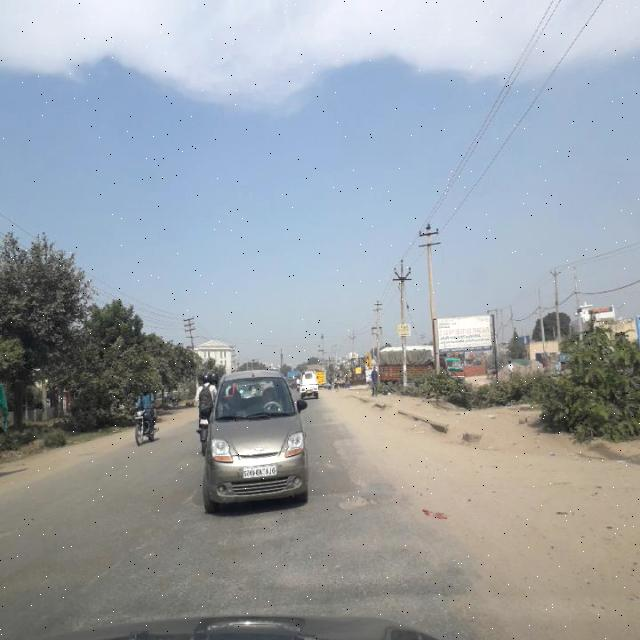D40: (332, 434, 390, 488), (337, 492, 373, 514)
